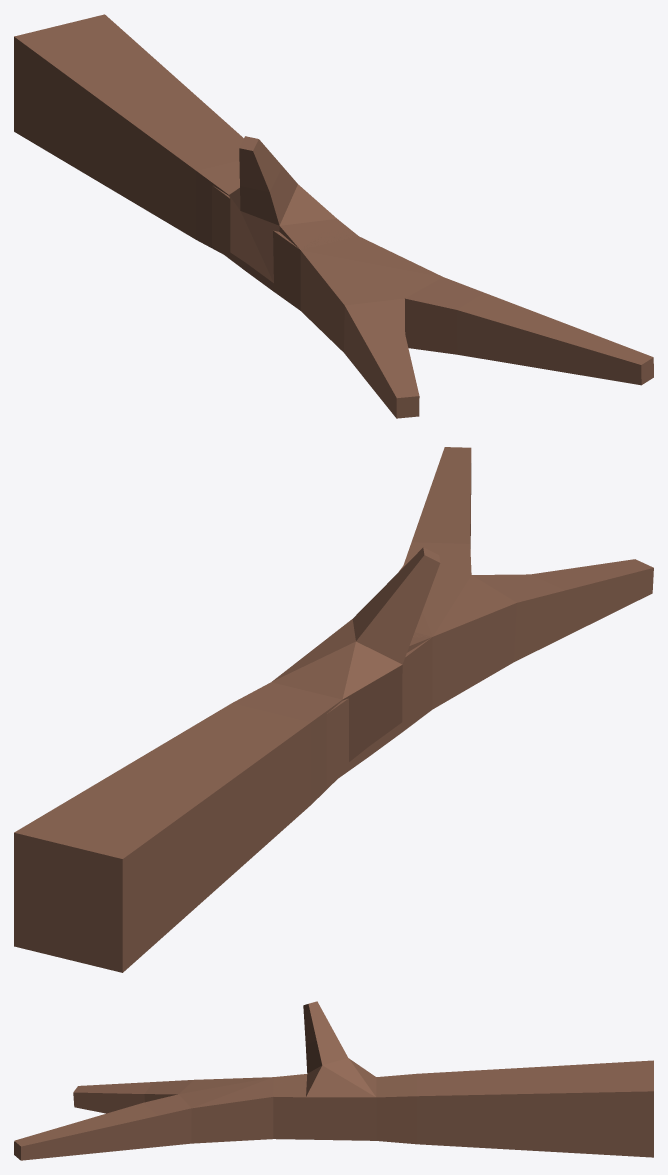
File: Gren1.fbx
The picture shows the model from 3 angles, top to bottom: view 1: azimuth 30°, elevation 25°; view 2: azimuth 150°, elevation 25°; view 3: azimuth 270°, elevation 25°; orthographic projection. The views are drawn at different scales.
Visible parts, largest first — view 1: Cube.002; view 2: Cube.002; view 3: Cube.002.
Part boxes in pixels (x1=…): Cube.002: x1=14, y1=14, x2=653, y2=418; Cube.002: x1=14, y1=447, x2=653, y2=972; Cube.002: x1=14, y1=1001, x2=653, y2=1160.
Bounding box in the file's own units: 51.34 × 39.74 × 189.
